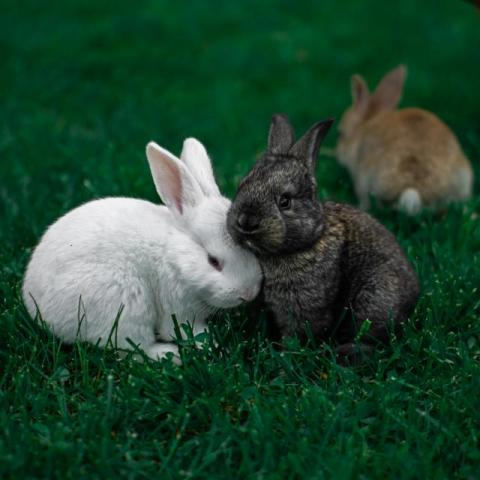small_animal: (20, 135, 264, 367), (224, 111, 421, 360), (332, 63, 475, 217)
